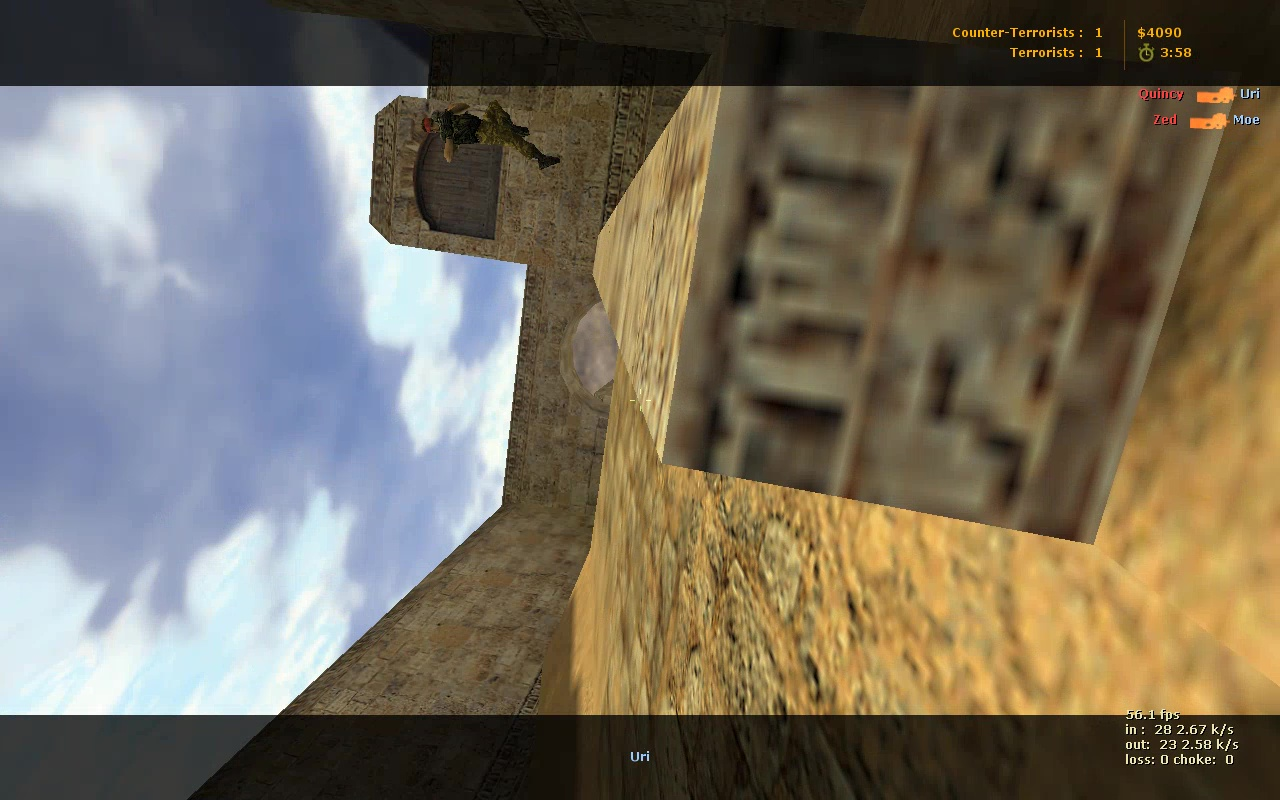terr1: (421, 100, 560, 170)
